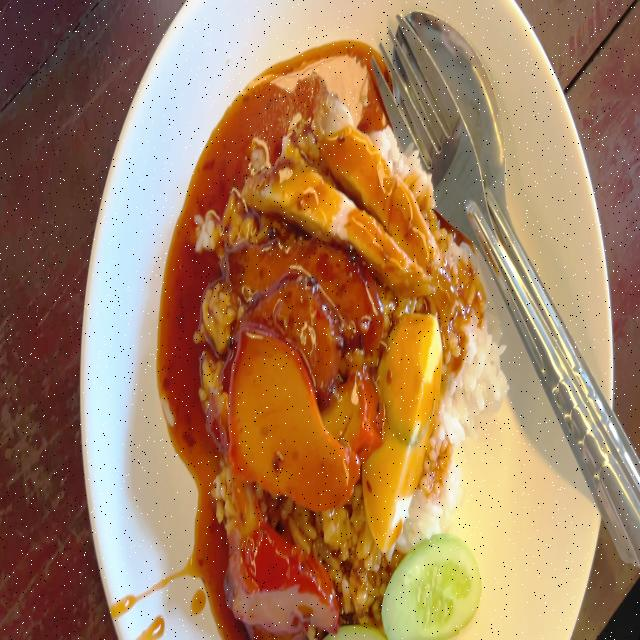boiled_egg: (366, 307, 442, 549)
chainese_sausage: (227, 214, 384, 375)
crispy_pork: (233, 93, 439, 294)
cucumber: (383, 532, 482, 640)
red_pork: (229, 328, 351, 505), (226, 513, 337, 629)
red_pork_and_crispy_pork: (187, 92, 499, 640)
